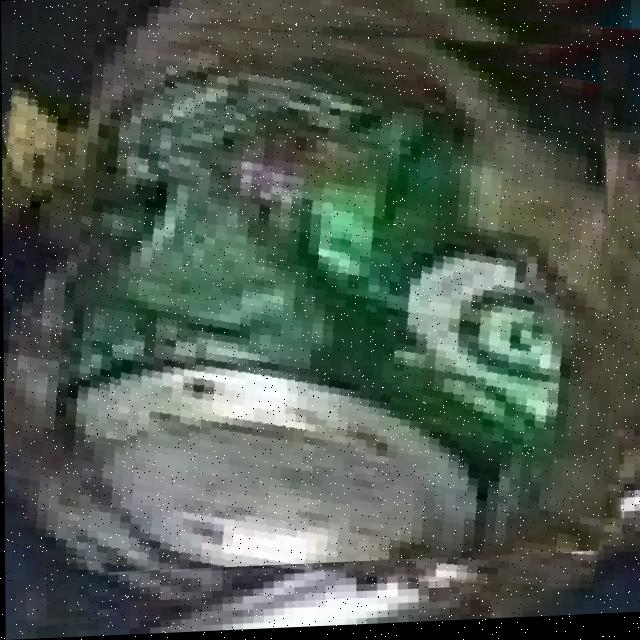can: (2, 29, 616, 570), (15, 176, 178, 542)
